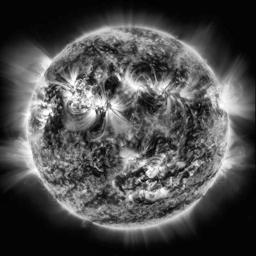solar flares: (62, 83, 90, 110), (92, 98, 120, 119), (143, 159, 168, 177), (120, 74, 142, 94), (151, 79, 170, 102), (119, 146, 139, 167), (213, 90, 223, 115)
sunspots: (130, 53, 167, 82), (186, 104, 200, 160), (45, 110, 65, 142), (149, 133, 171, 156), (50, 64, 76, 82), (90, 148, 108, 173), (84, 119, 104, 141), (85, 40, 101, 61), (92, 191, 114, 206), (105, 74, 119, 97), (107, 44, 125, 60)
